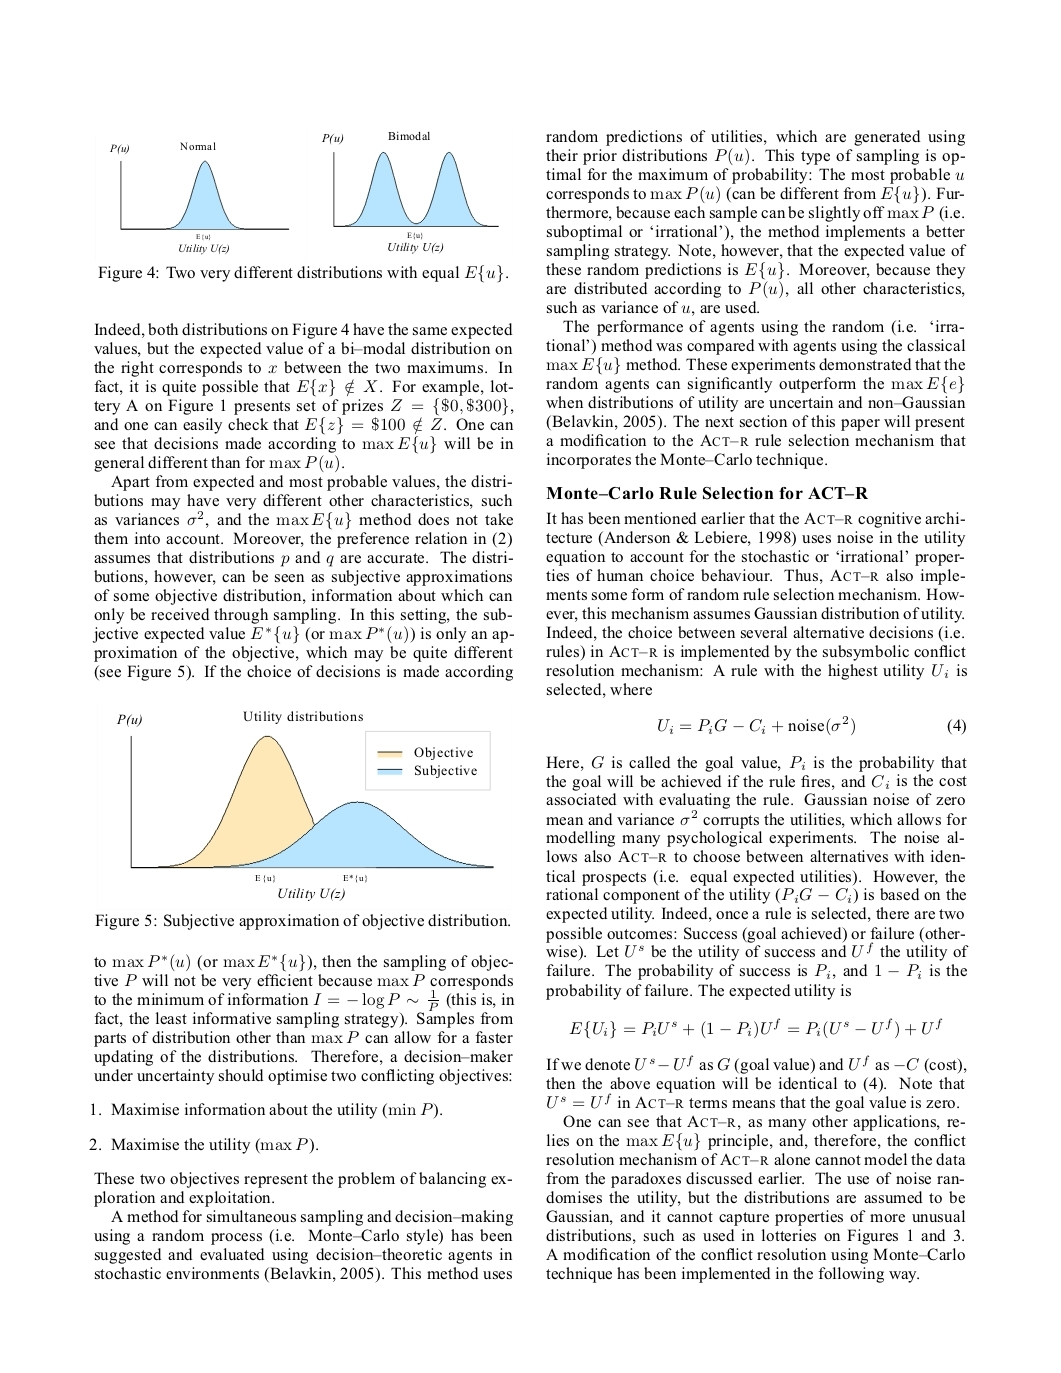figure: (116, 711, 493, 900), (110, 132, 498, 254)
formula: (570, 1017, 942, 1039), (658, 715, 965, 736)
